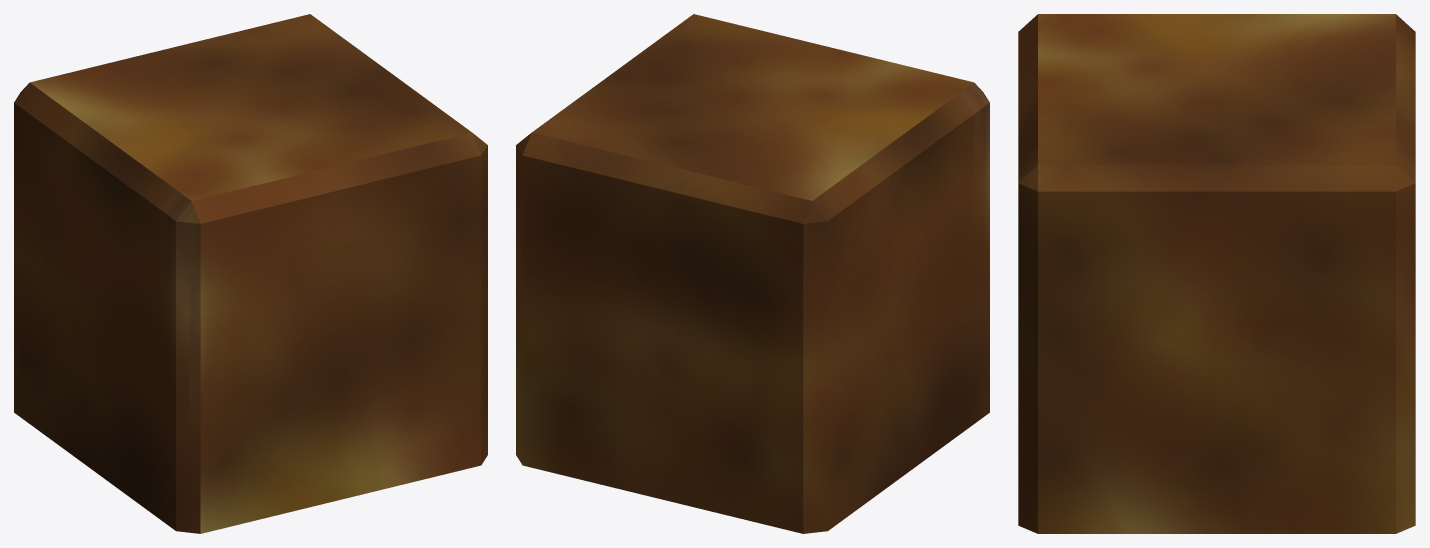
The model's file is Soli.fbx.
3 renders of one model, left to right at view 1: azimuth 30°, elevation 25°; view 2: azimuth 150°, elevation 25°; view 3: azimuth 270°, elevation 25°, orthographic. The views are drawn at different scales.
Parts seen in each view (by area): view 1: Cube; view 2: Cube; view 3: Cube.
Part boxes in pixels (x1=…): Cube: x1=14, y1=14, x2=487, y2=533; Cube: x1=516, y1=14, x2=989, y2=533; Cube: x1=1018, y1=14, x2=1415, y2=533.
Size of the model in its own units: 200 by 200 by 200.
